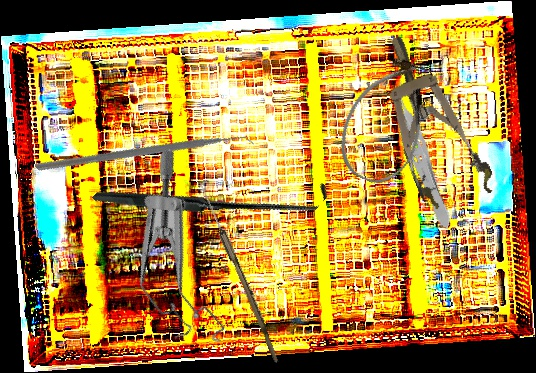Cannula: (326, 47, 448, 194)
Chopper: (33, 47, 261, 269)
Hook Surgical: (91, 74, 333, 316)
Speculum: (80, 146, 282, 363), (362, 23, 499, 218)
Surgical Spoon: (195, 181, 284, 364)
Tissue Forceps: (382, 77, 460, 234)
